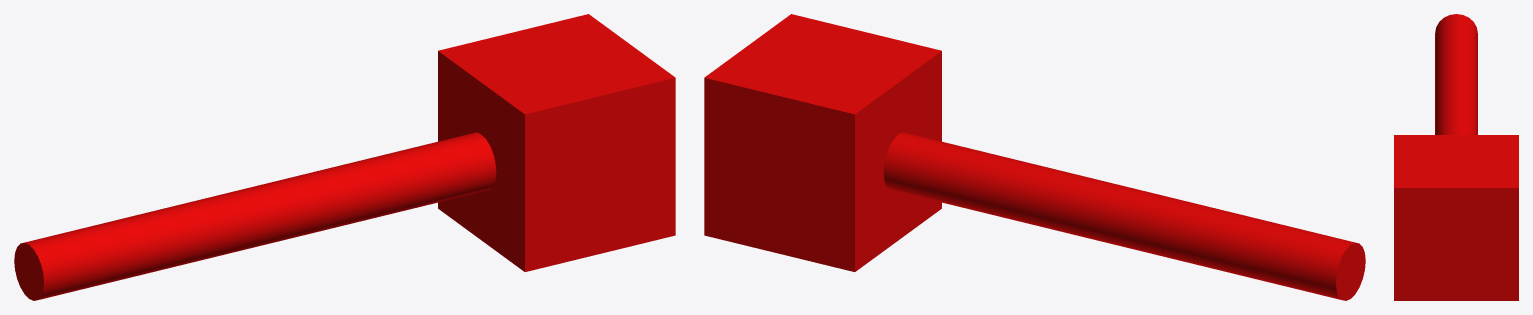
File: X_Pinch.fbx
3 renders of one model, left to right at view 1: azimuth 30°, elevation 25°; view 2: azimuth 150°, elevation 25°; view 3: azimuth 270°, elevation 25°, orthographic. The views are drawn at different scales.
Visible parts, largest first — view 1: pCube2; view 2: pCube2; view 3: pCube2.
Boxes of the visible parts, x1,y1,x2,y2 form: pCube2: (14,14,675,300); pCube2: (704,14,1365,300); pCube2: (1394,14,1518,300).
Bounding box in the file's own units: 4 × 1 × 1.
